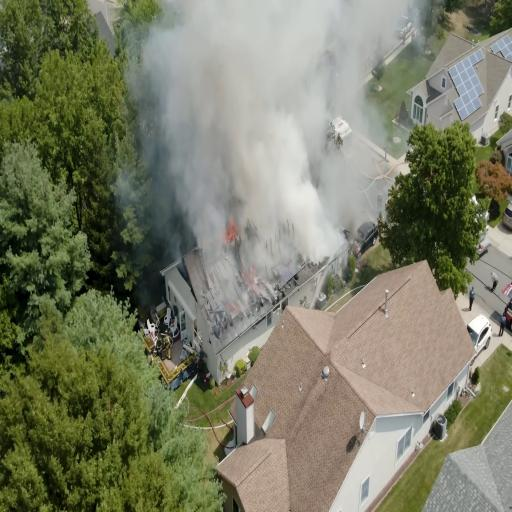smoke: (161, 0, 306, 143), (240, 79, 335, 239), (181, 143, 228, 245)
